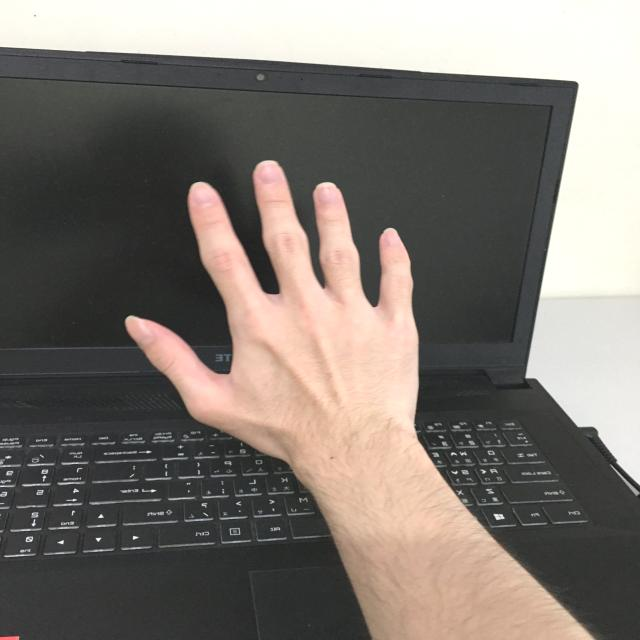no_glove: (114, 148, 430, 477)
